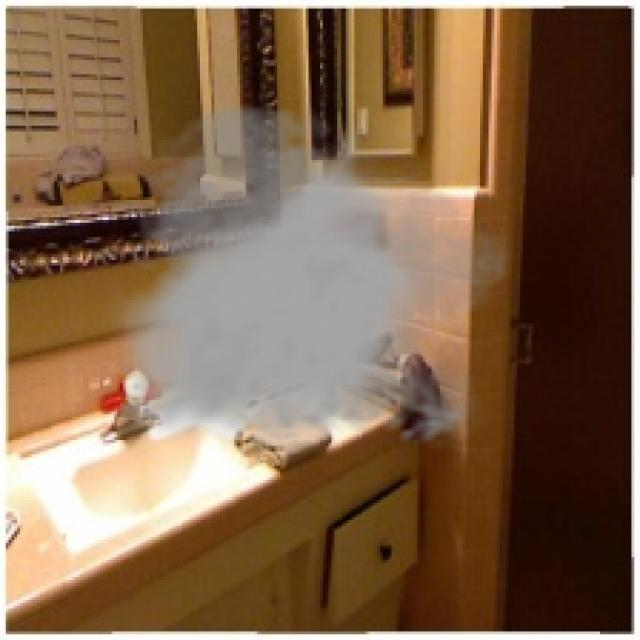Smoke: (102, 100, 512, 454)
